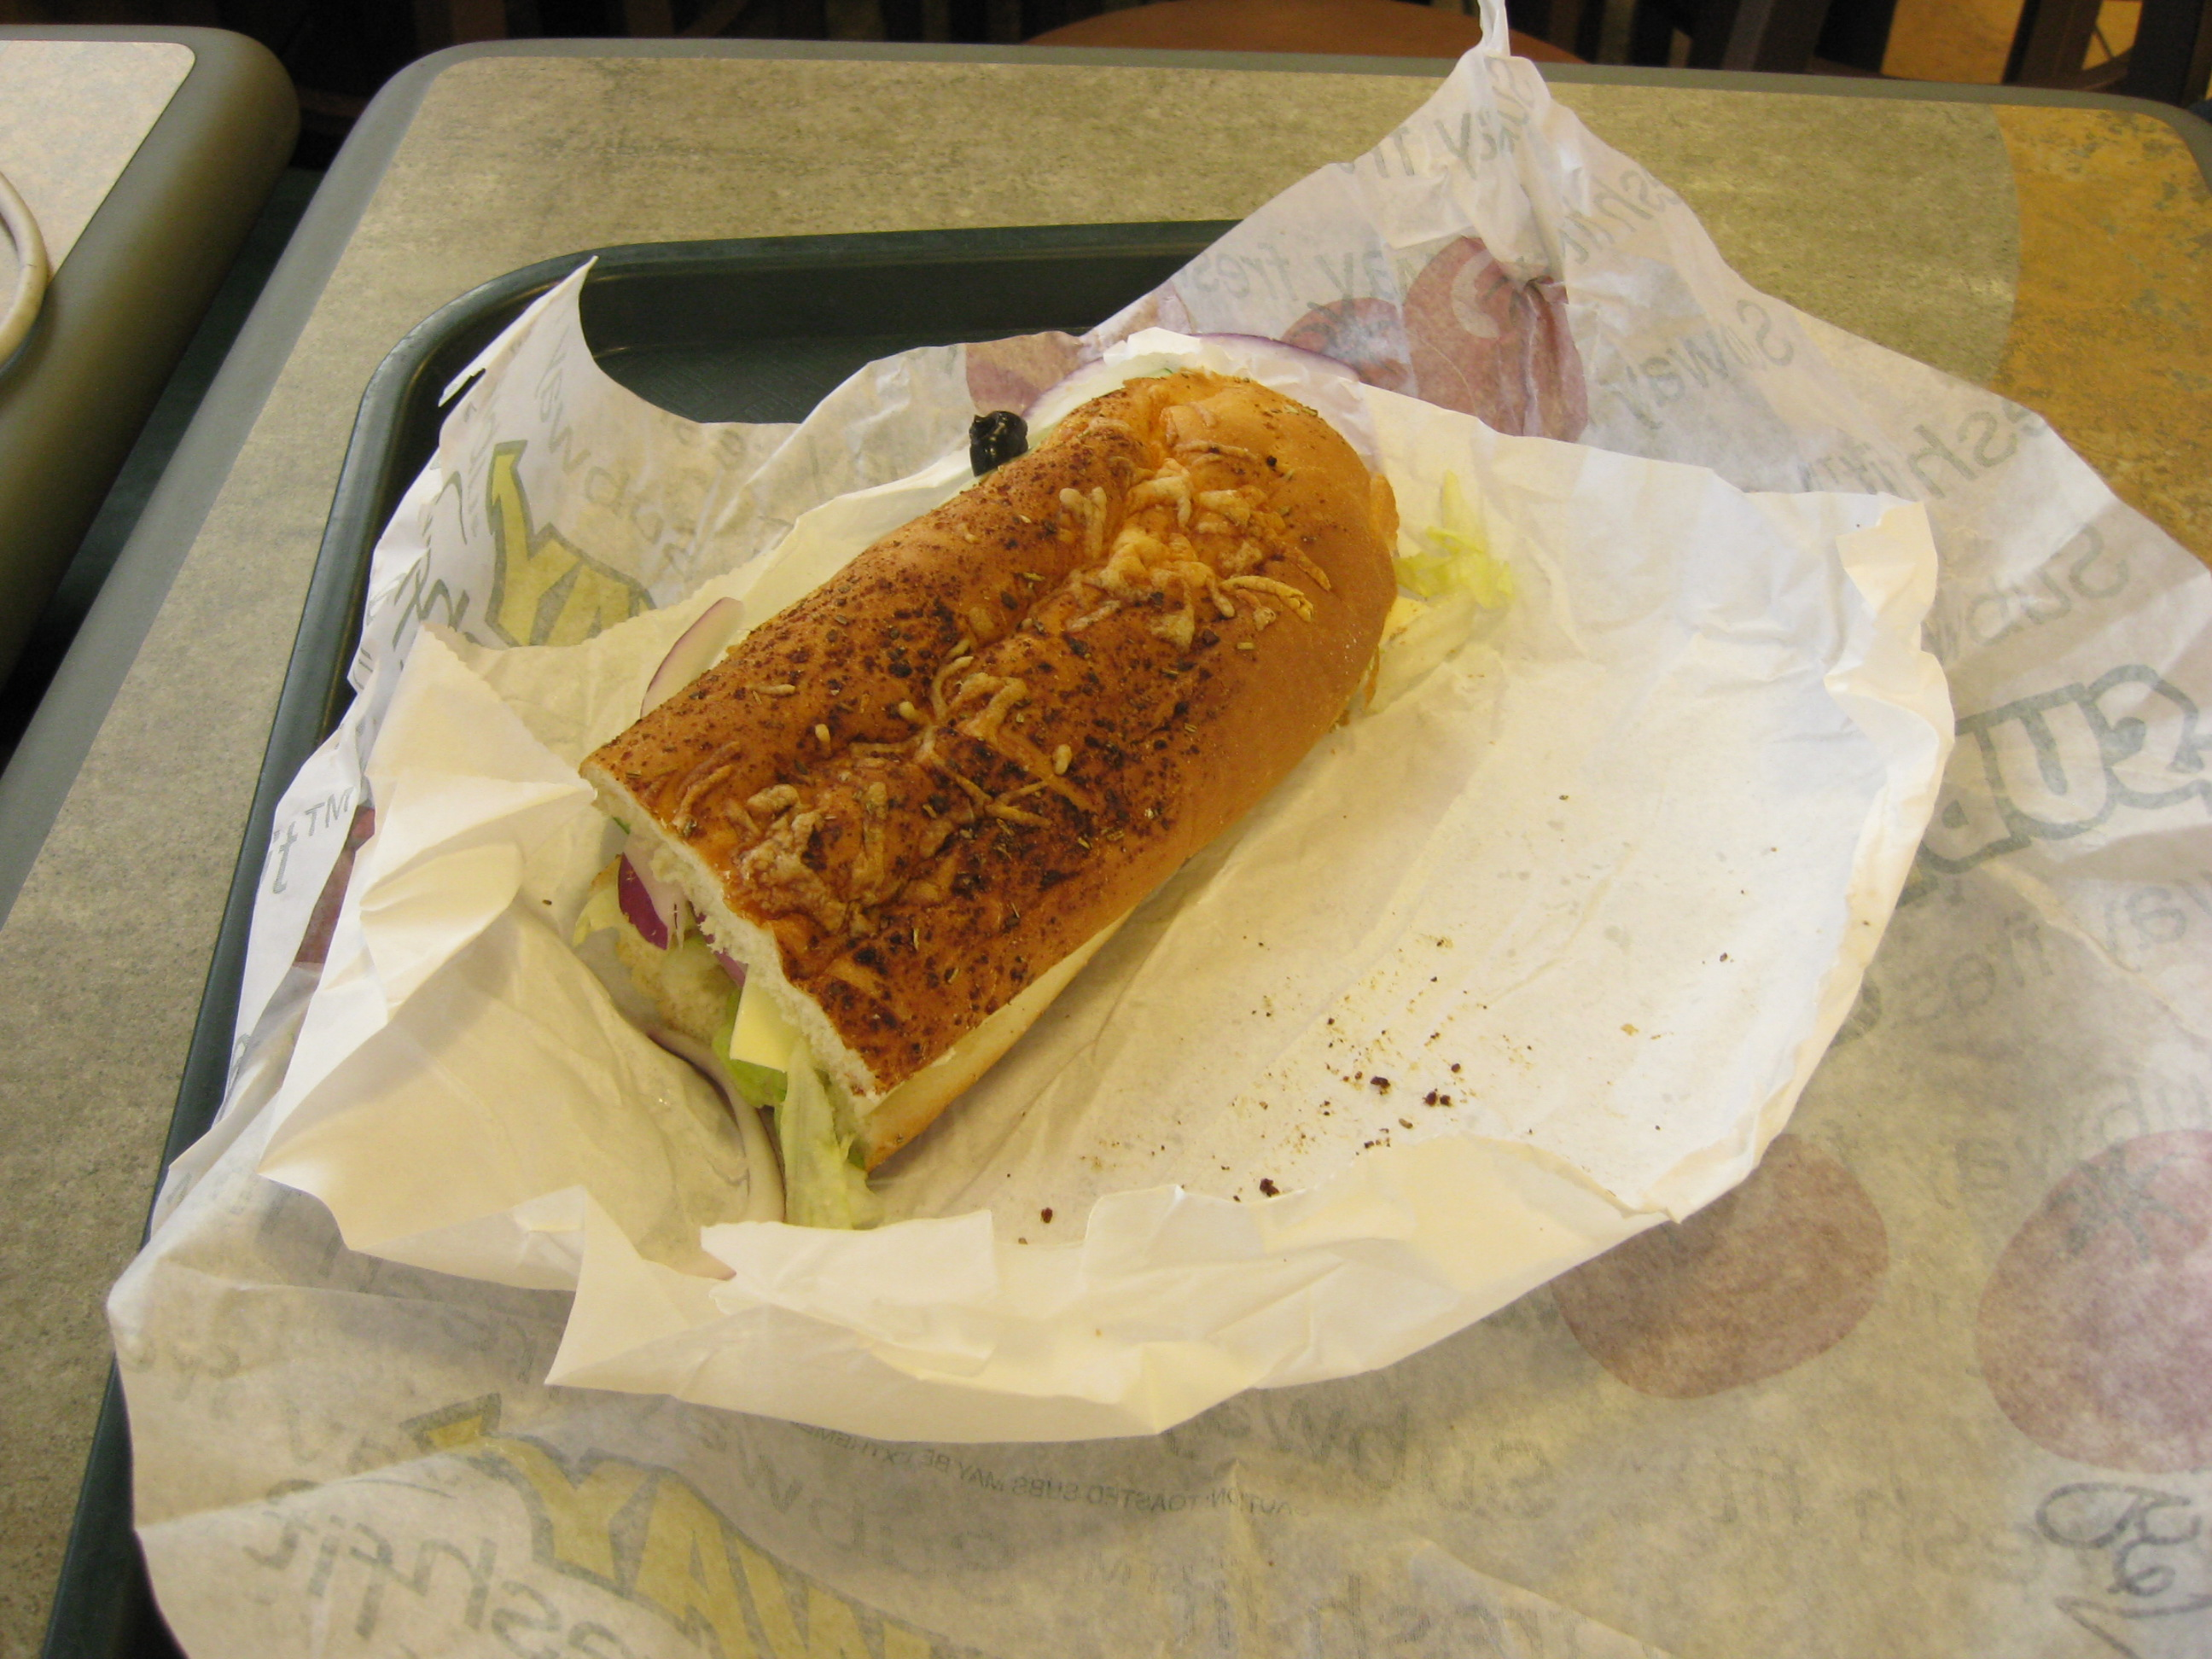sub: (583, 353, 1487, 1226)
